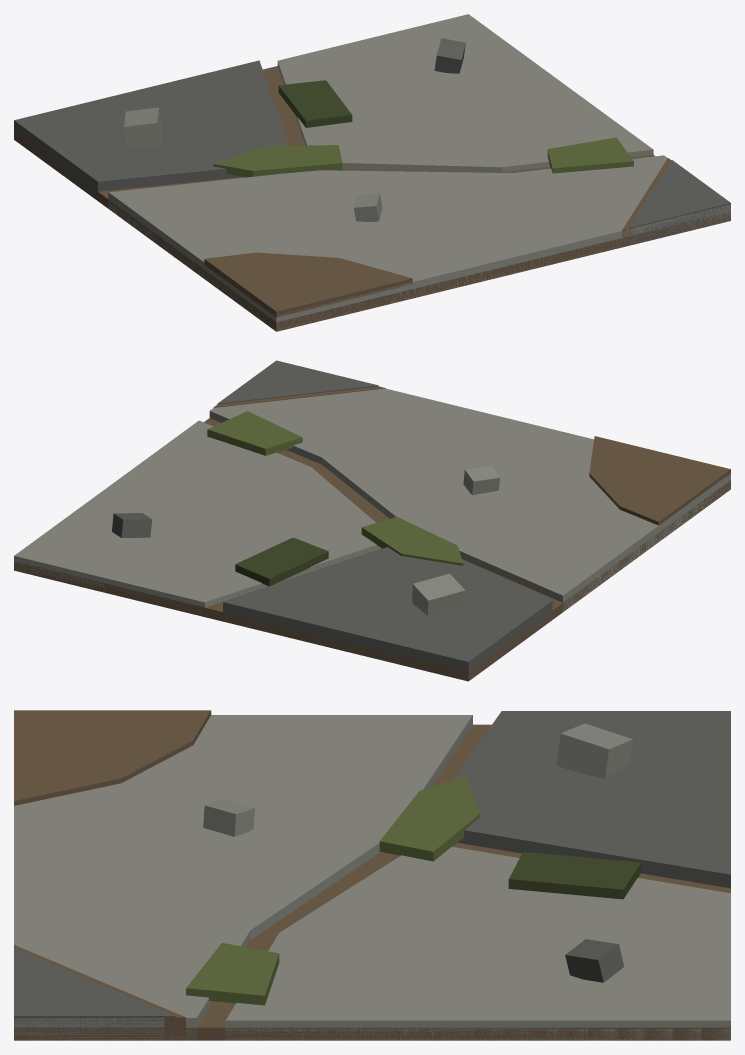
Rendered from ground_tile_concrete.glb.
The picture shows the model from 3 angles, top to bottom: view 1: azimuth 30°, elevation 25°; view 2: azimuth 150°, elevation 25°; view 3: azimuth 270°, elevation 25°; orthographic projection. The views are drawn at different scales.
Visible parts, largest first — view 1: ground_tile_mesh; view 2: ground_tile_mesh; view 3: ground_tile_mesh.
Boxes of the visible parts, x1,y1,x2,y2 form: ground_tile_mesh: (14,14,730,331); ground_tile_mesh: (14,360,730,681); ground_tile_mesh: (14,710,730,1040).
Size of the model in its own units: 2 by 0.1794 by 2.
